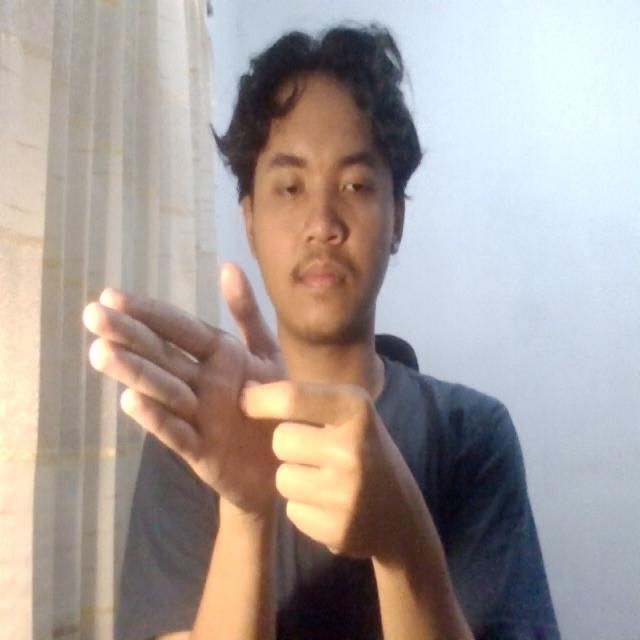L: (66, 236, 388, 552)
